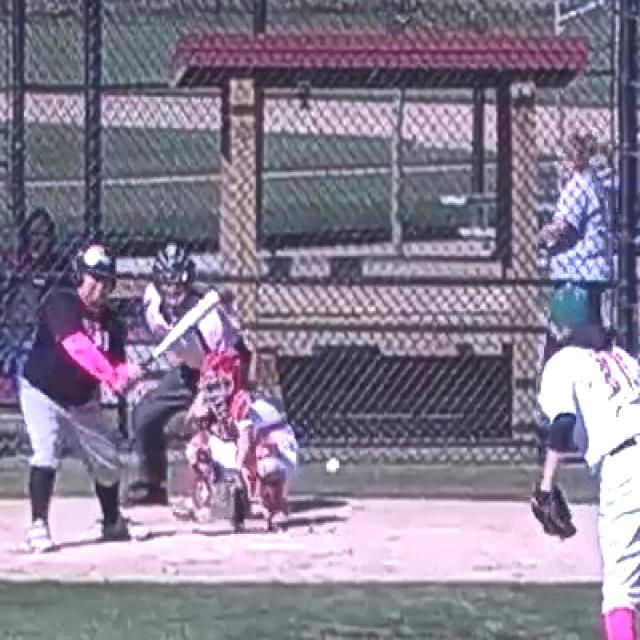baseball: (326, 459, 338, 474)
